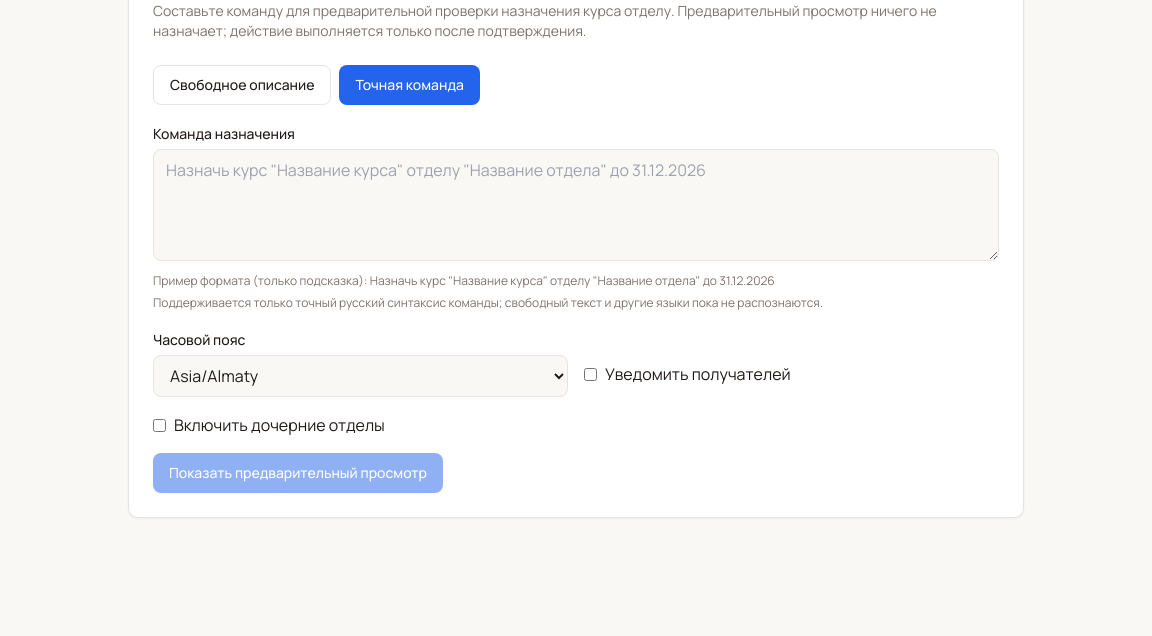
Test: AssignmentWorkbench › confirms only after deliberate click and reports queued, not delivered
This screenshot has width=1152, height=636.
Replace the text in the text box labelled "Команда назначения" with "Назначь курс \"Safety\" отделу \"Operations\" до 31.12.2026" at (576, 205), box [153, 149, 999, 261]
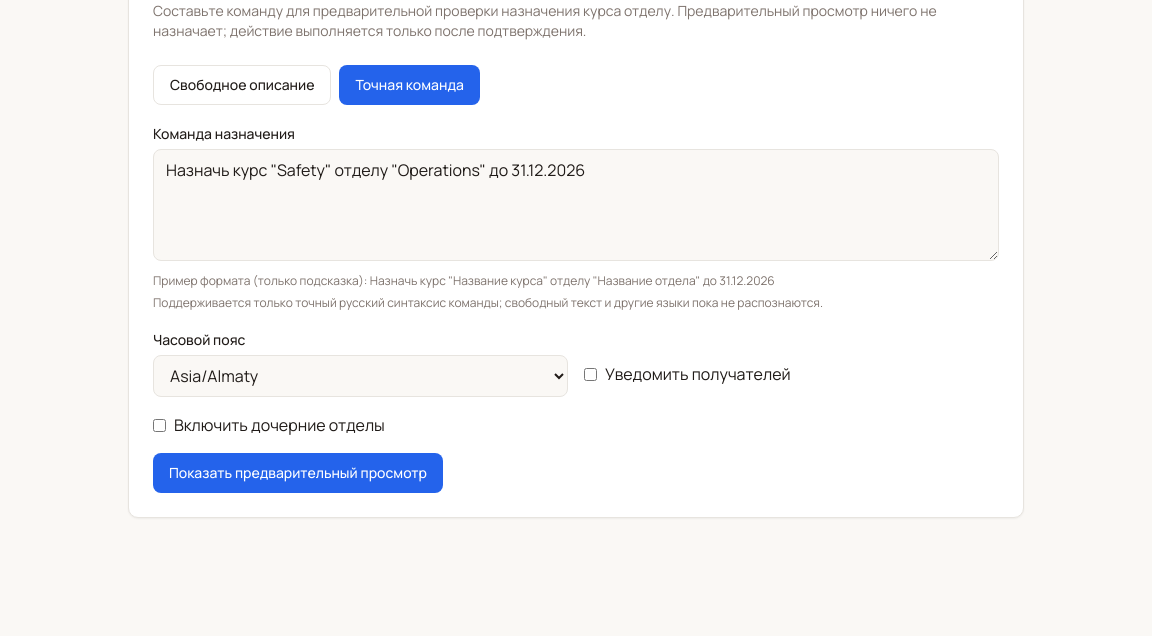
Click the button "Показать предварительный просмотр" at (298, 473), box [153, 453, 443, 493]
(page scrolled)
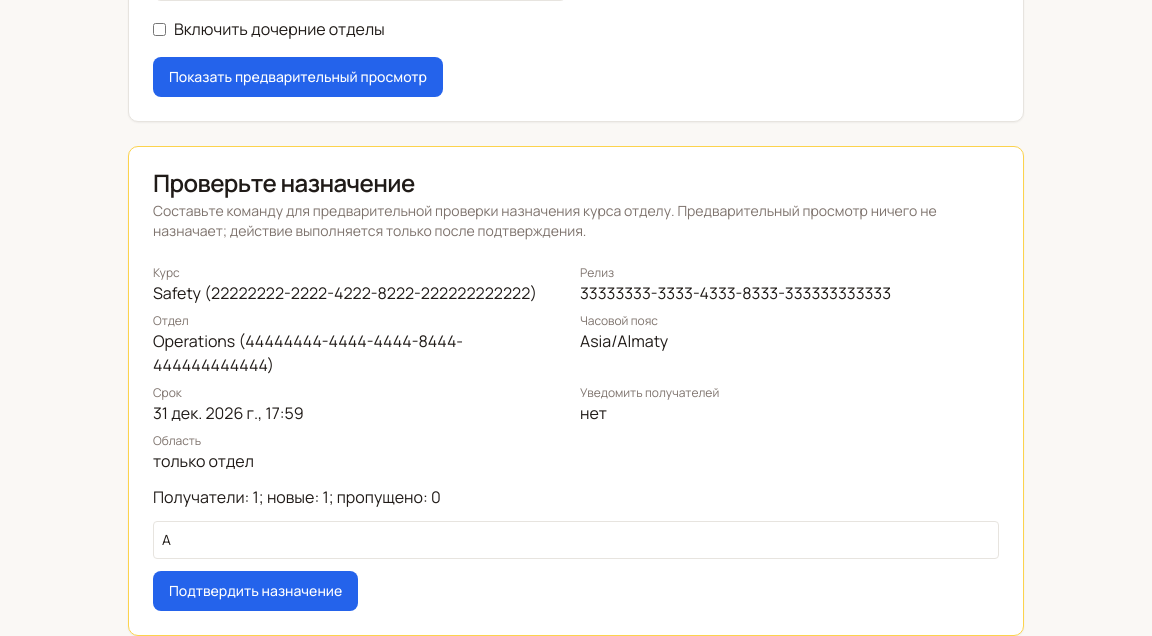
expect the button "Подтвердить назначение" is shown: met
Click the button "Подтвердить назначение" at (256, 591), box [153, 571, 358, 611]
(page scrolled)
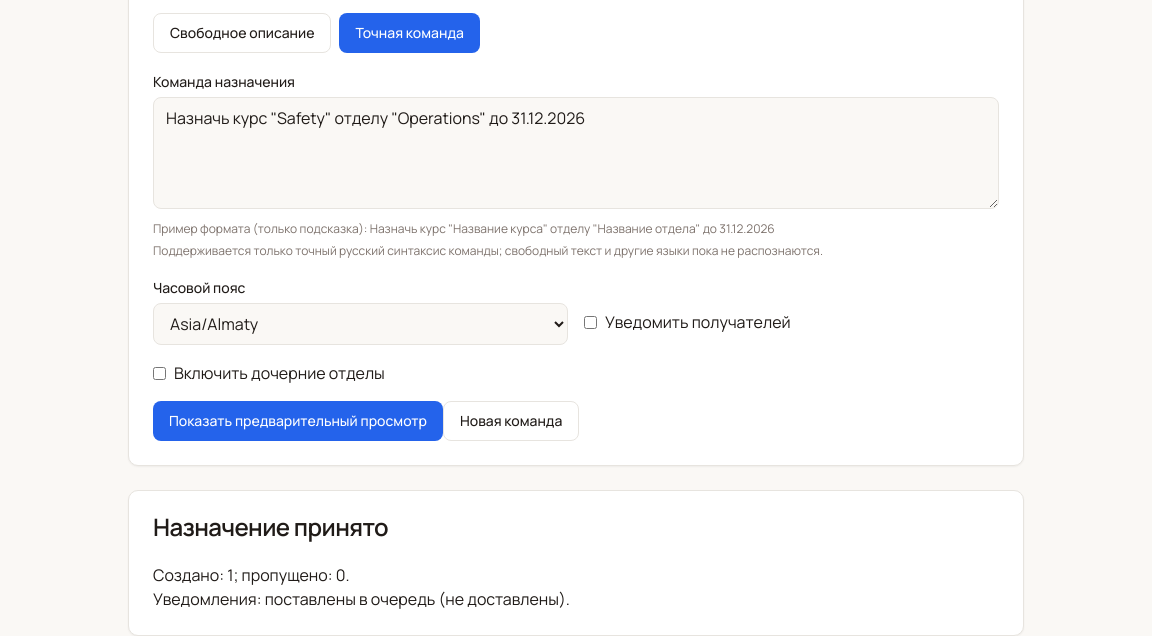
expect the text "Уведомления: поставлены в очередь (не доставлены)." is shown: met, box [153, 588, 570, 610]
